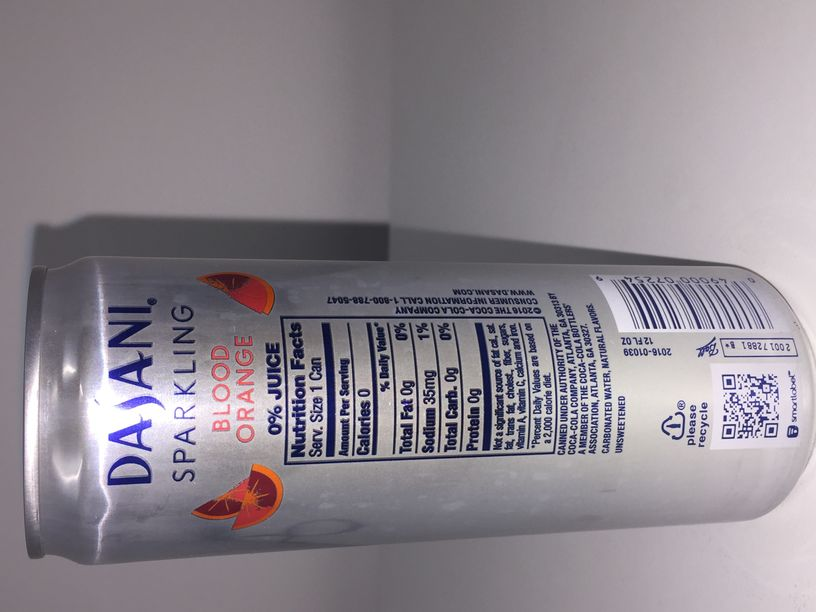blood_orange: (20, 253, 816, 568)
